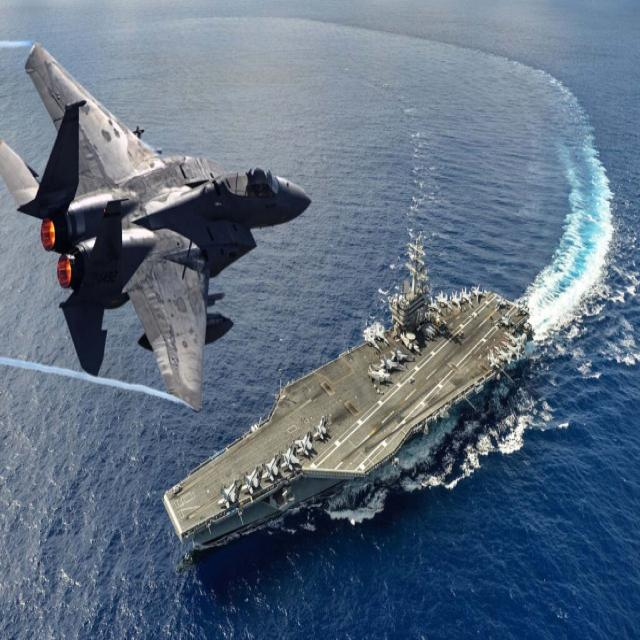F15: (0, 25, 318, 428)
